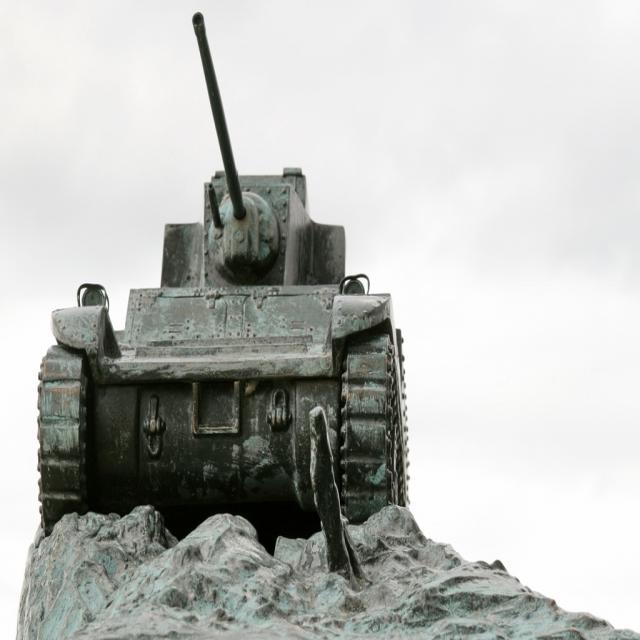tank: (36, 11, 409, 534)
